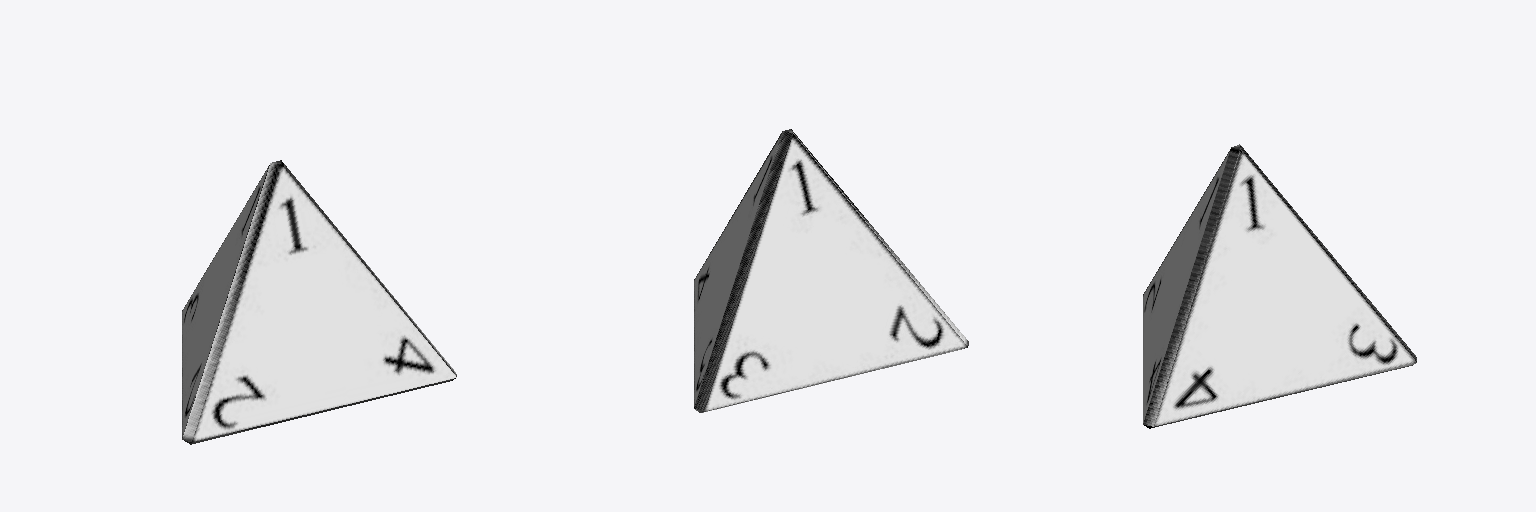
3 renders of one model, left to right at view 1: azimuth 30°, elevation 25°; view 2: azimuth 150°, elevation 25°; view 3: azimuth 270°, elevation 25°, orthographic.
Visible parts, largest first — view 1: model_2; view 2: model_2; view 3: model_2.
Boxes of the visible parts, <box> form: model_2: <box>182,160,456,444</box>; model_2: <box>694,129,968,412</box>; model_2: <box>1143,144,1416,428</box>.
Bounding box in the file's own units: 11.55 × 8.78 × 10.
Materials: 1 (1 with a texture image).